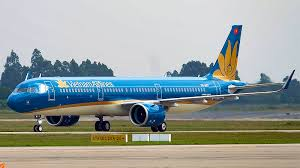maybay_dansu: (9, 30, 292, 131)
